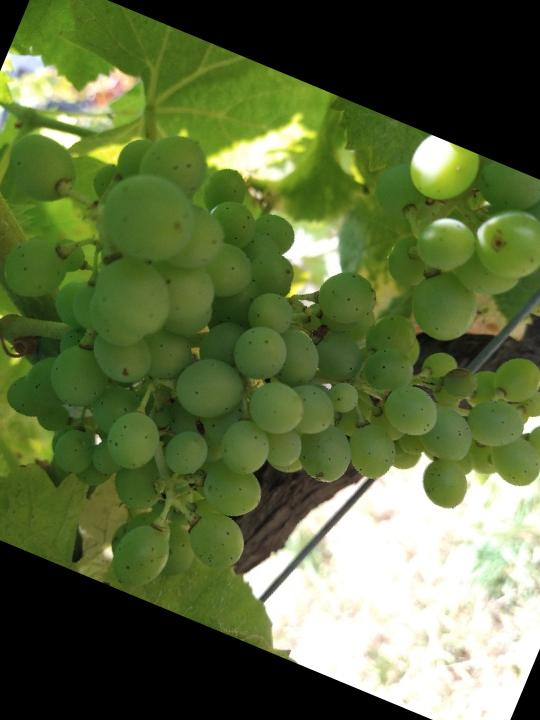grape: (0, 76, 540, 720)
